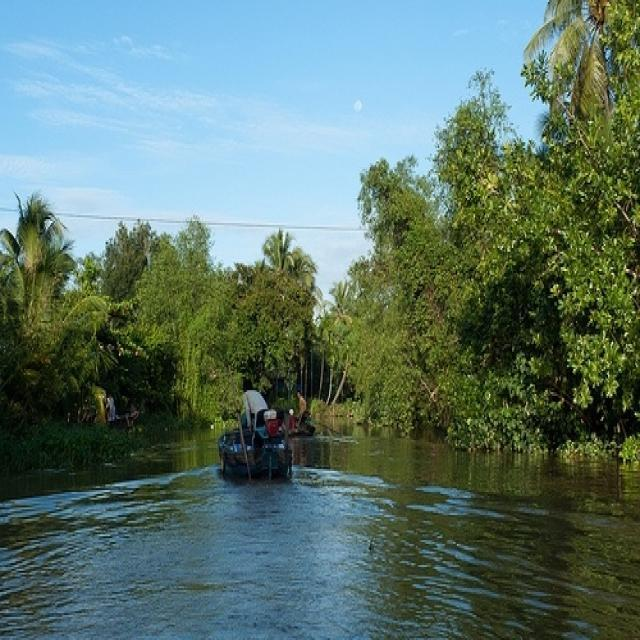Hyacinth: (0, 417, 123, 465), (455, 419, 548, 459), (554, 435, 607, 465), (613, 437, 640, 463)
boat: (215, 421, 294, 484), (283, 408, 312, 438)
